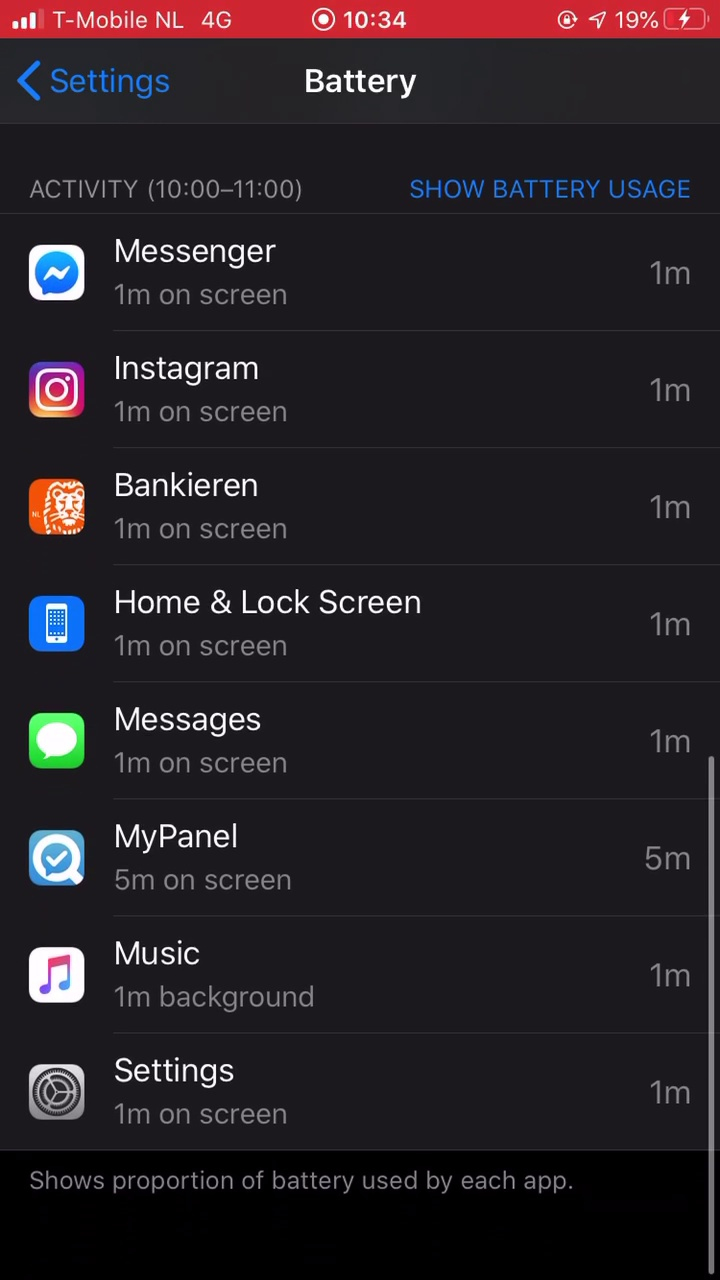activity: (13, 165, 309, 205)
app: (17, 226, 703, 328), (9, 340, 695, 442), (13, 457, 699, 559), (11, 575, 697, 677), (19, 692, 705, 794), (15, 803, 701, 905), (15, 928, 701, 1030), (13, 1047, 699, 1149)
